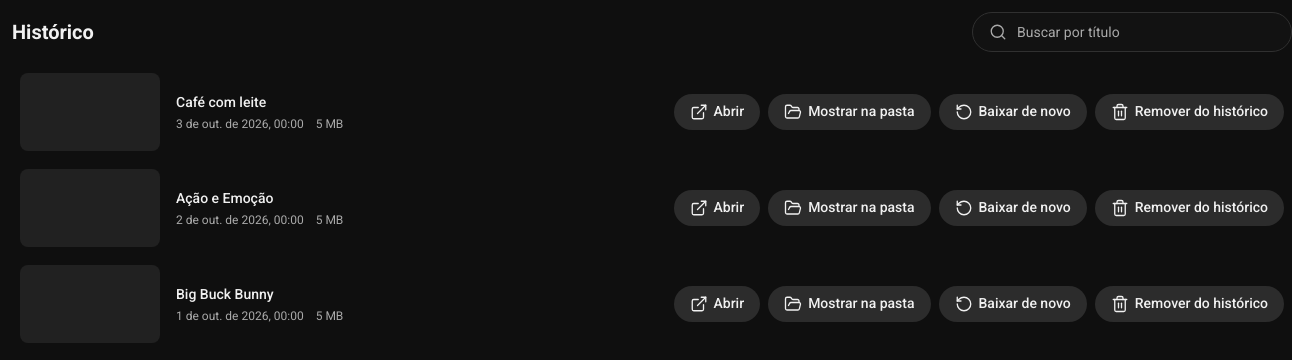
search › says so when nothing matches, and does not pretend the history is empty
This screenshot has width=1292, height=360.
In the search field named "Buscar no histórico": (1146, 32) [1017,13,1275,51], type "zzz"
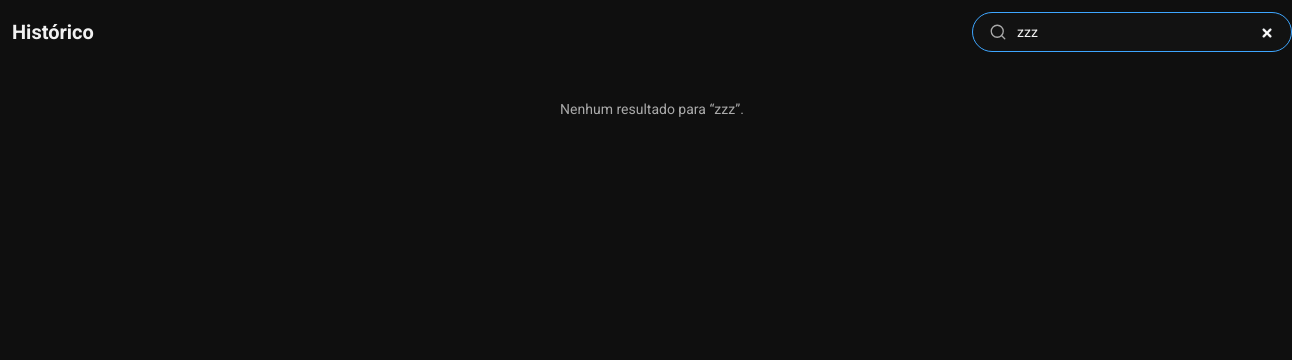
Expected: the text "Nenhum resultado para “zzz”." is shown, [560,101,744,117]
